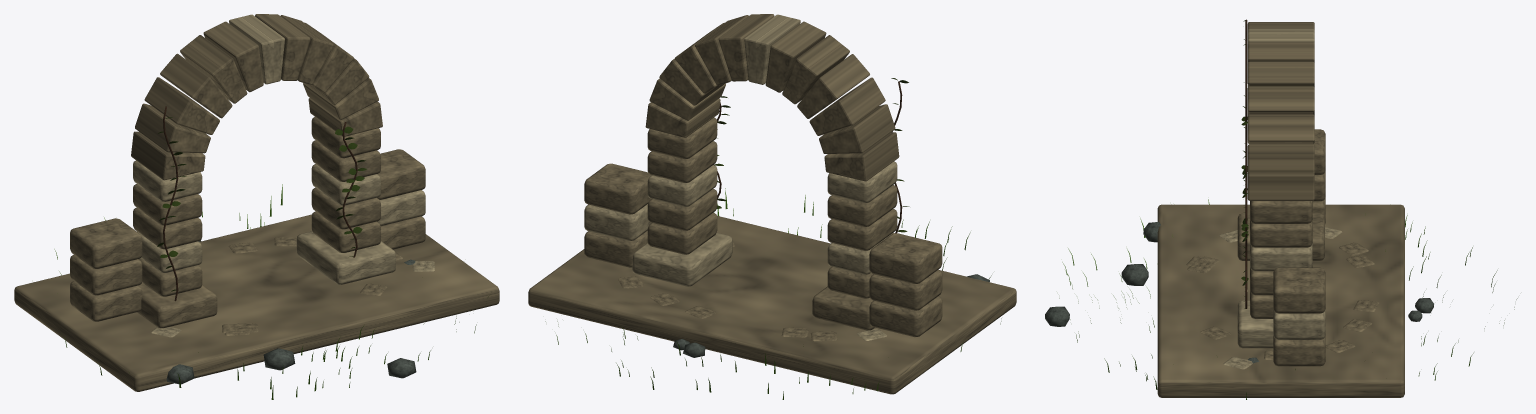
File: 04_ancient_ruins_v2_arch.glb
The picture shows the model from 3 angles, left to right: view 1: azimuth 30°, elevation 25°; view 2: azimuth 150°, elevation 25°; view 3: azimuth 270°, elevation 25°; orthographic projection.
Visible parts, largest first — view 1: 04_ancient_ruins_v2_arch | Ruins | aged sandstone, 04_ancient_ruins_v2_arch | Ruins | pale broken stone, Ruins variant | ivy and encroaching grass, 04_ancient_ruins_v2_arch | Hill | weathered slate; view 2: 04_ancient_ruins_v2_arch | Ruins | aged sandstone, 04_ancient_ruins_v2_arch | Ruins | pale broken stone, Ruins variant | ivy and encroaching grass, 04_ancient_ruins_v2_arch | Hill | weathered slate; view 3: 04_ancient_ruins_v2_arch | Ruins | aged sandstone, 04_ancient_ruins_v2_arch | Ruins | pale broken stone, Ruins variant | ivy and encroaching grass, 04_ancient_ruins_v2_arch | Hill | weathered slate.
Part boxes in pixels (x1=…): 04_ancient_ruins_v2_arch | Ruins | aged sandstone: x1=14, y1=14, x2=499, y2=391; 04_ancient_ruins_v2_arch | Ruins | pale broken stone: x1=133, y1=14, x2=434, y2=337; Ruins variant | ivy and encroaching grass: x1=54, y1=106, x2=488, y2=399; 04_ancient_ruins_v2_arch | Hill | weathered slate: x1=166, y1=240, x2=416, y2=384; 04_ancient_ruins_v2_arch | Ruins | aged sandstone: x1=528, y1=14, x2=1016, y2=394; 04_ancient_ruins_v2_arch | Ruins | pale broken stone: x1=584, y1=14, x2=897, y2=340; Ruins variant | ivy and encroaching grass: x1=545, y1=78, x2=1001, y2=399; 04_ancient_ruins_v2_arch | Hill | weathered slate: x1=673, y1=274, x2=989, y2=357; 04_ancient_ruins_v2_arch | Ruins | aged sandstone: x1=1157, y1=22, x2=1404, y2=397; 04_ancient_ruins_v2_arch | Ruins | pale broken stone: x1=1219, y1=29, x2=1342, y2=369; Ruins variant | ivy and encroaching grass: x1=1059, y1=19, x2=1517, y2=399; 04_ancient_ruins_v2_arch | Hill | weathered slate: x1=1045, y1=222, x2=1433, y2=363.
Bounding box in the file's own units: 6.16 × 4.19 × 6.55.
Materials: 6 (6 with a texture image).
